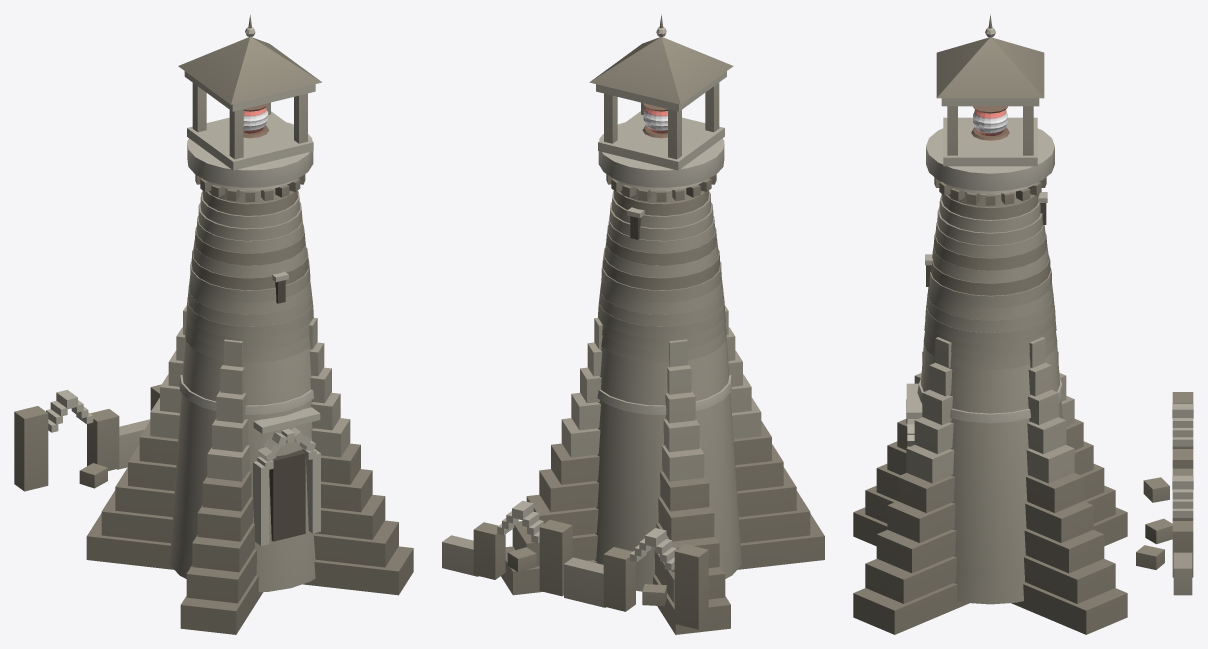
Rendered from watchtower-aldruhn-before.glb.
3 views of the same model, side by side, from view 1: azimuth 30°, elevation 25°; view 2: azimuth 150°, elevation 25°; view 3: azimuth 270°, elevation 25° (orthographic). The views are drawn at different scales.
Visible parts, largest first — view 1: watchtower; view 2: watchtower; view 3: watchtower, watchtower-paper.
Part boxes in pixels (x1,y1,x2,y2): watchtower: (14,15,413,634); watchtower: (442,14,824,634); watchtower: (853,14,1193,634); watchtower-paper: (973,110,1007,136).
Bounding box in the file's own units: 9.28 × 19.04 × 10.44.
